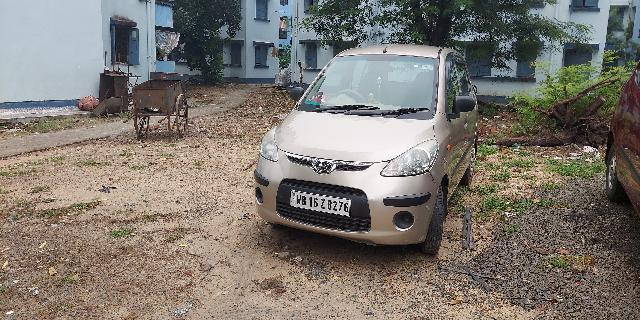Car: (246, 48, 482, 259)
